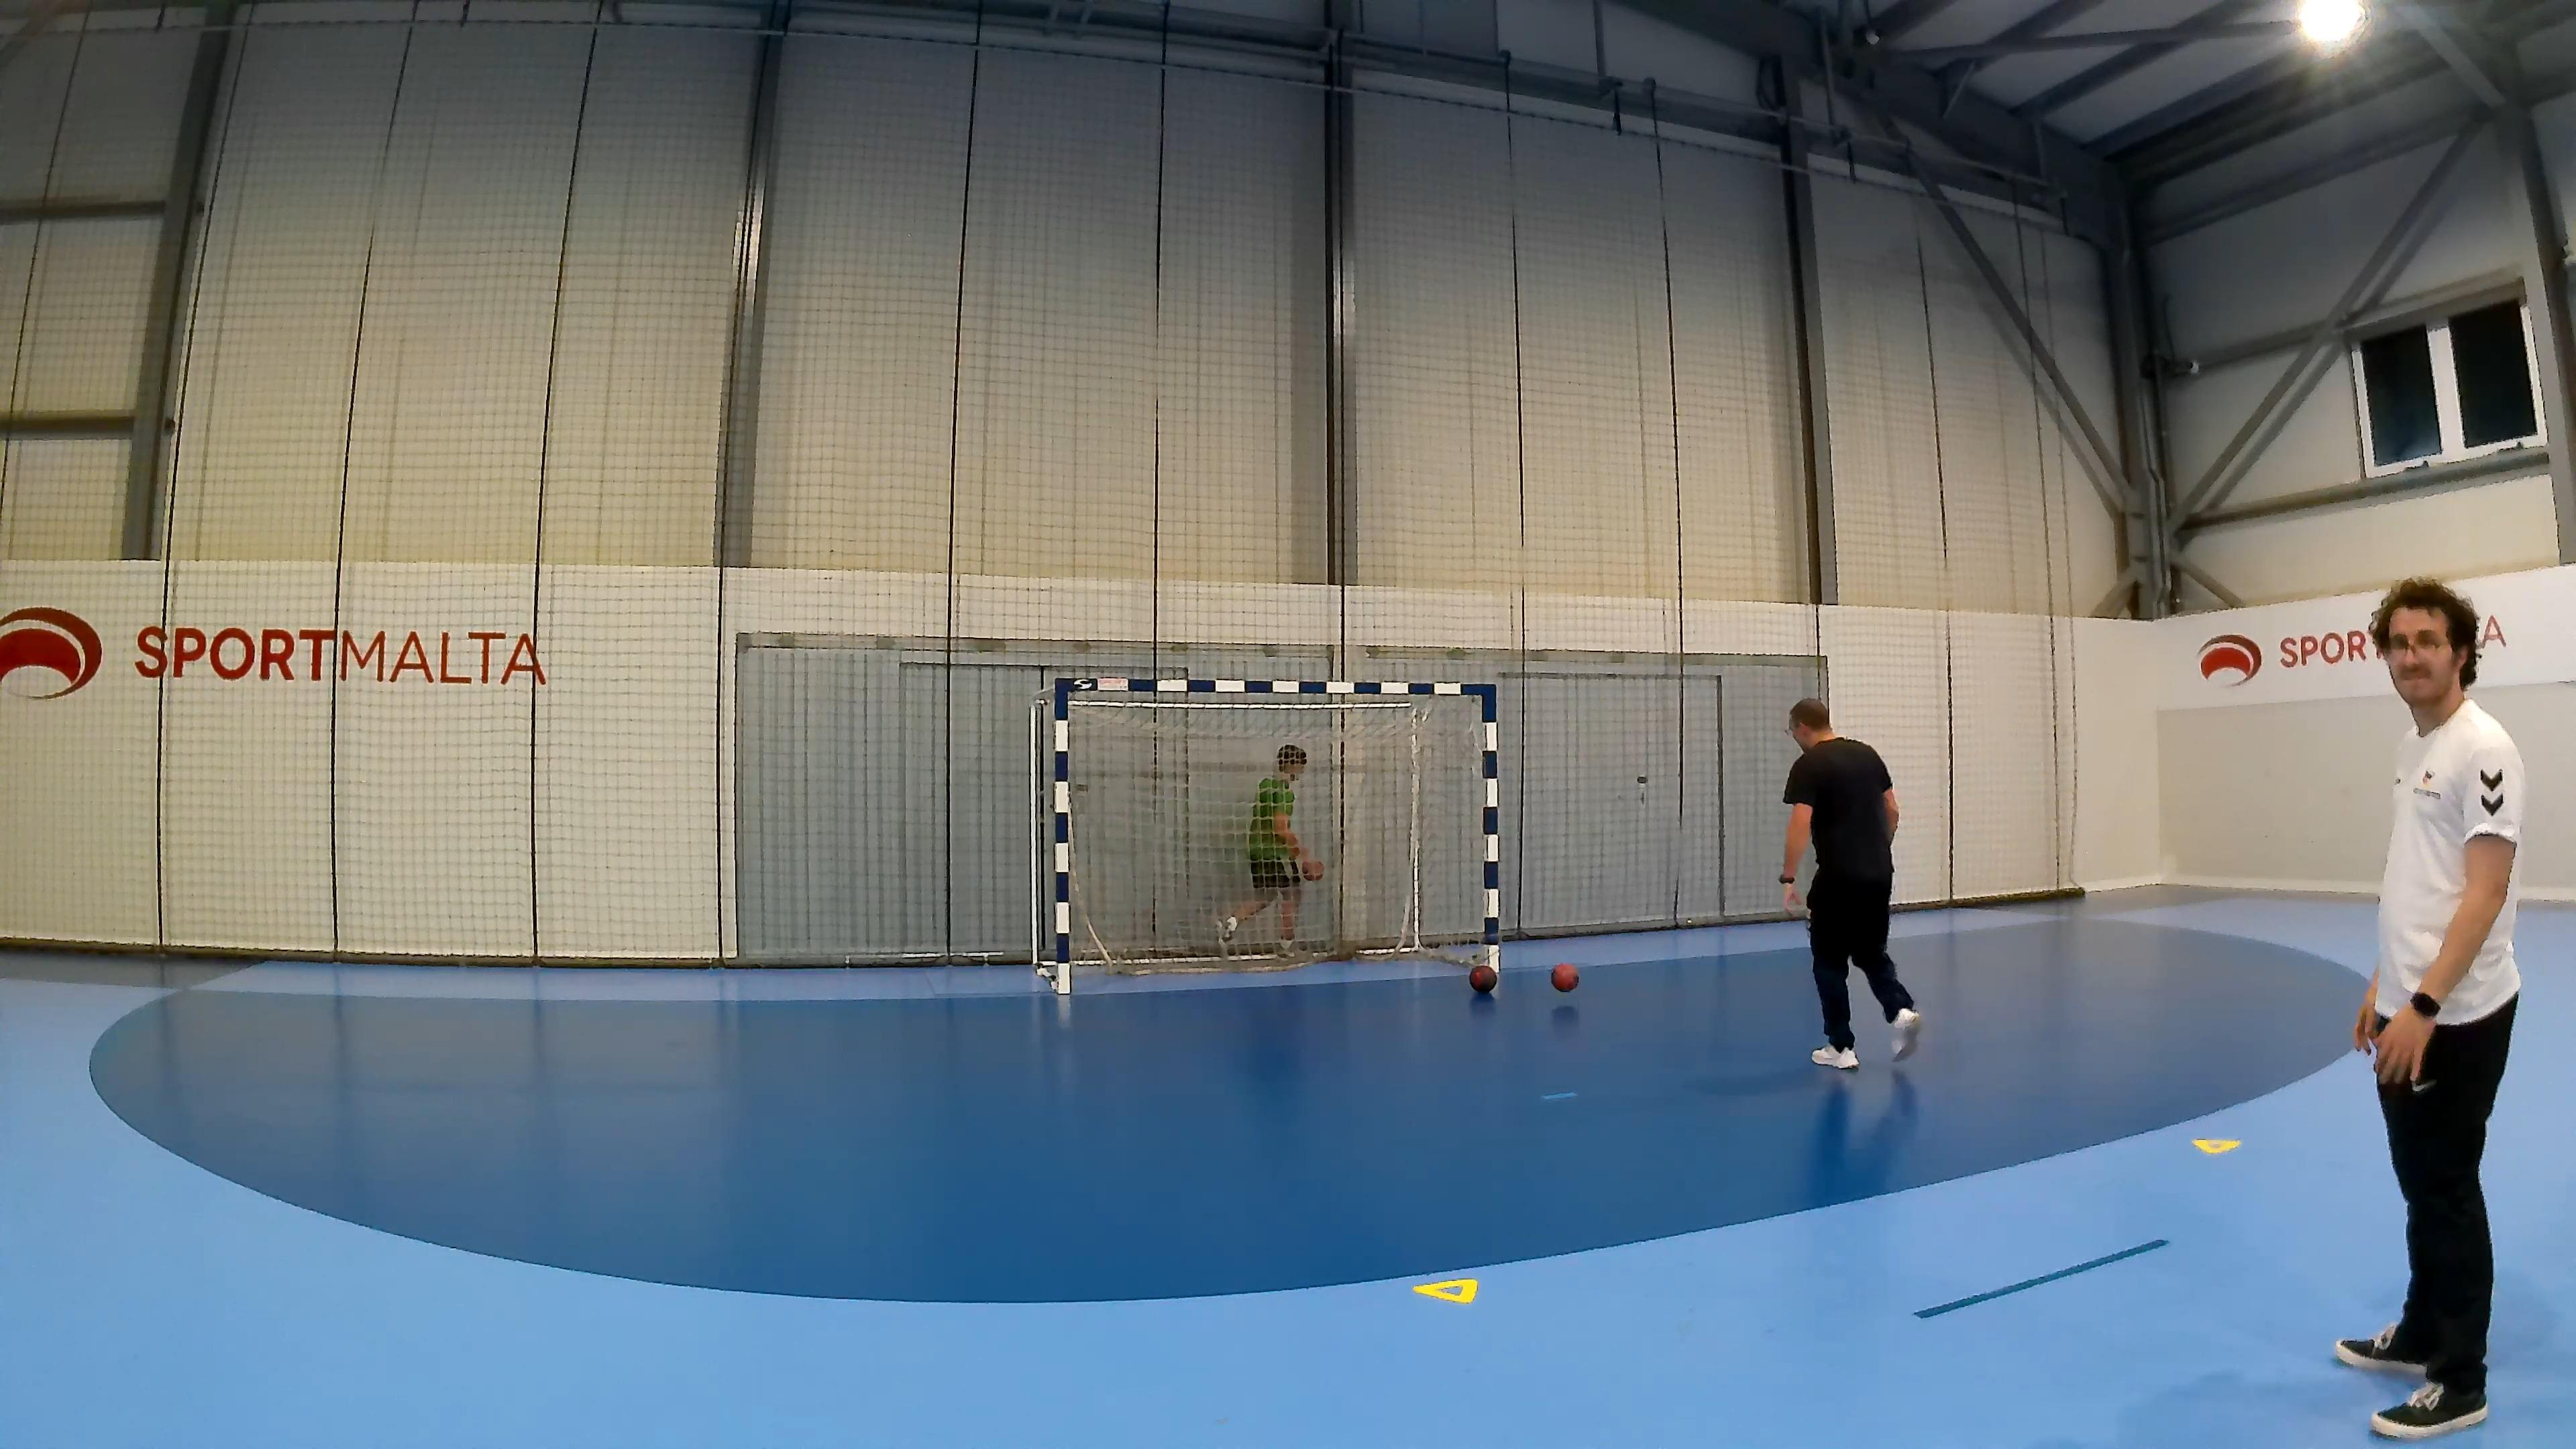handball: (1468, 962, 1497, 993), (1550, 961, 1578, 991)
